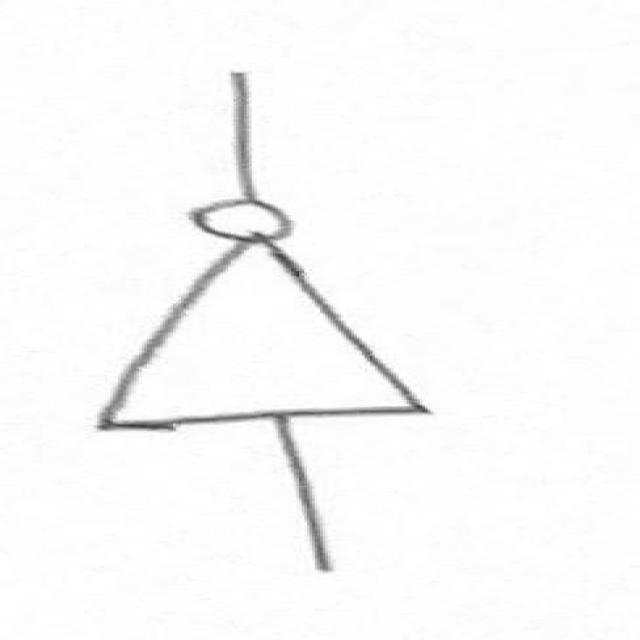NOT: (50, 188, 503, 458)
